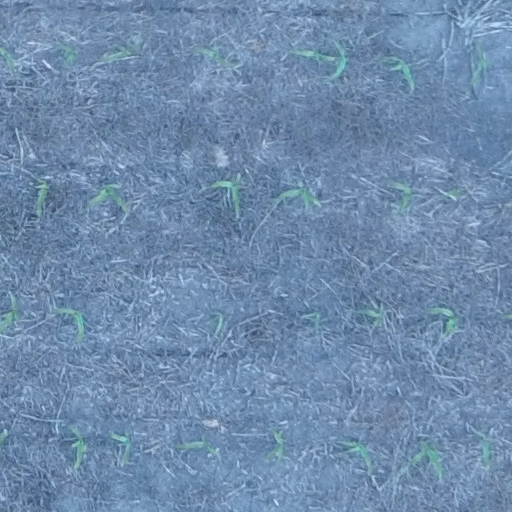planta: (409, 443, 444, 477), (210, 179, 242, 213), (56, 308, 86, 344), (90, 183, 128, 210), (383, 55, 414, 88), (428, 306, 457, 335), (108, 433, 132, 465), (197, 48, 234, 68), (69, 425, 86, 468), (177, 437, 217, 455), (279, 188, 321, 205), (328, 43, 347, 79), (471, 44, 488, 84), (343, 440, 371, 464), (265, 428, 285, 459), (393, 182, 412, 210), (99, 46, 134, 61), (291, 48, 334, 60), (37, 181, 49, 212), (361, 309, 383, 324), (60, 44, 75, 64), (481, 439, 490, 466), (308, 310, 318, 326)
